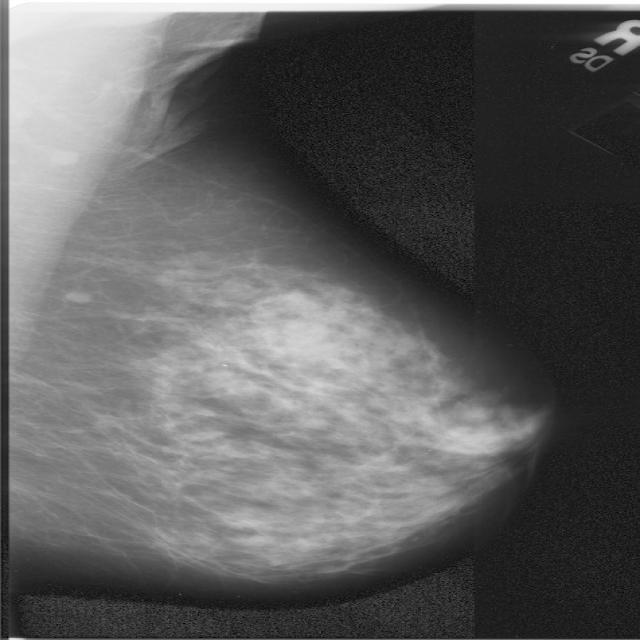tumour: (136, 351, 188, 384)
